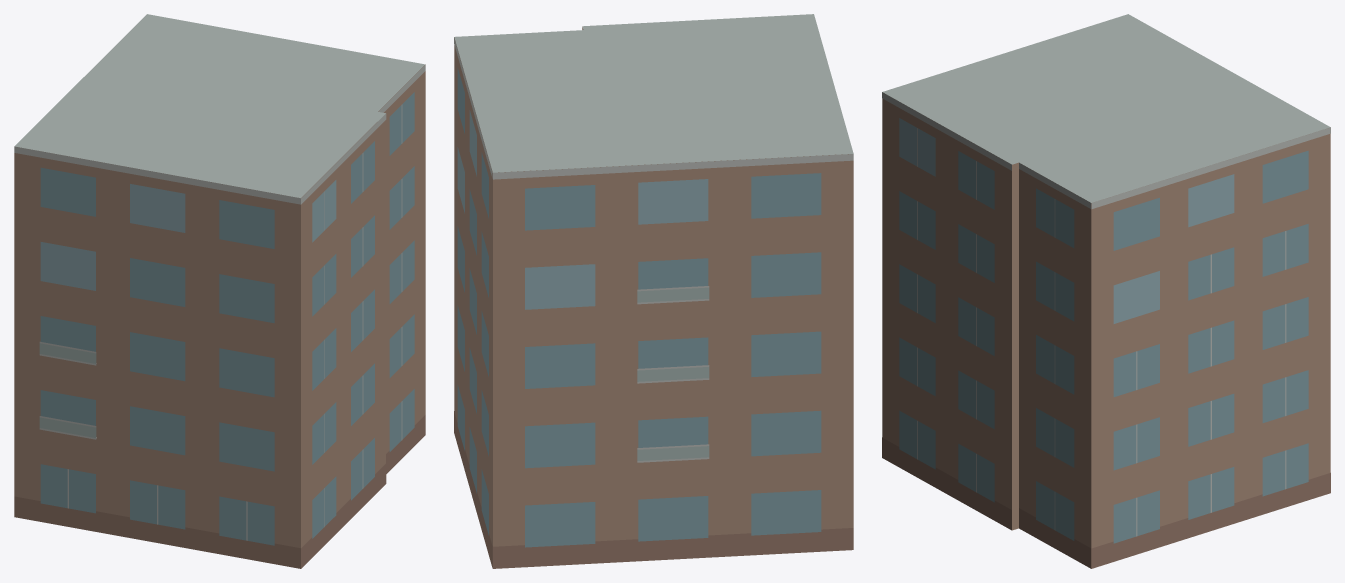
File: survey-upis-33038271.glb
The picture shows the model from 3 angles, left to right: view 1: azimuth 30°, elevation 25°; view 2: azimuth 150°, elevation 25°; view 3: azimuth 270°, elevation 25°; orthographic projection. The views are drawn at different scales.
Visible parts, largest first — view 1: survey-upis-33038271.tmp; view 2: survey-upis-33038271.tmp; view 3: survey-upis-33038271.tmp.
Boxes of the visible parts, x1,y1,x2,y2 form: survey-upis-33038271.tmp: (14,14,425,568); survey-upis-33038271.tmp: (454,14,853,568); survey-upis-33038271.tmp: (882,14,1330,568).
Size of the model in its own units: 15.63 by 14.1 by 15.68.
